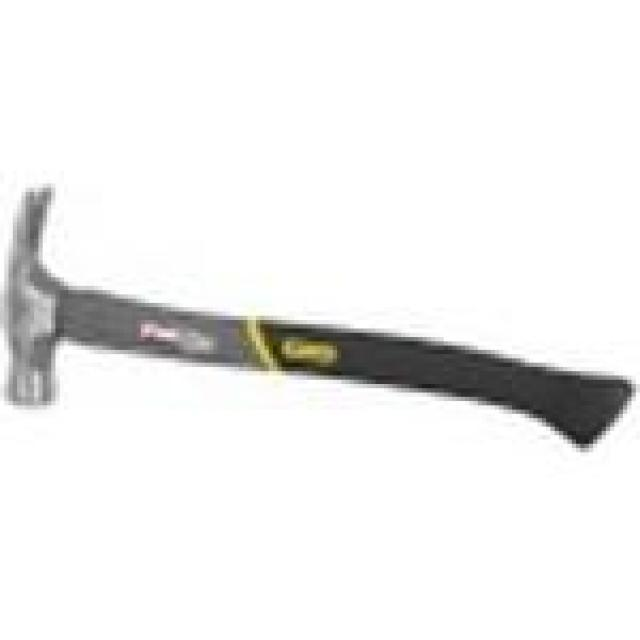hammer: (0, 177, 640, 458)
